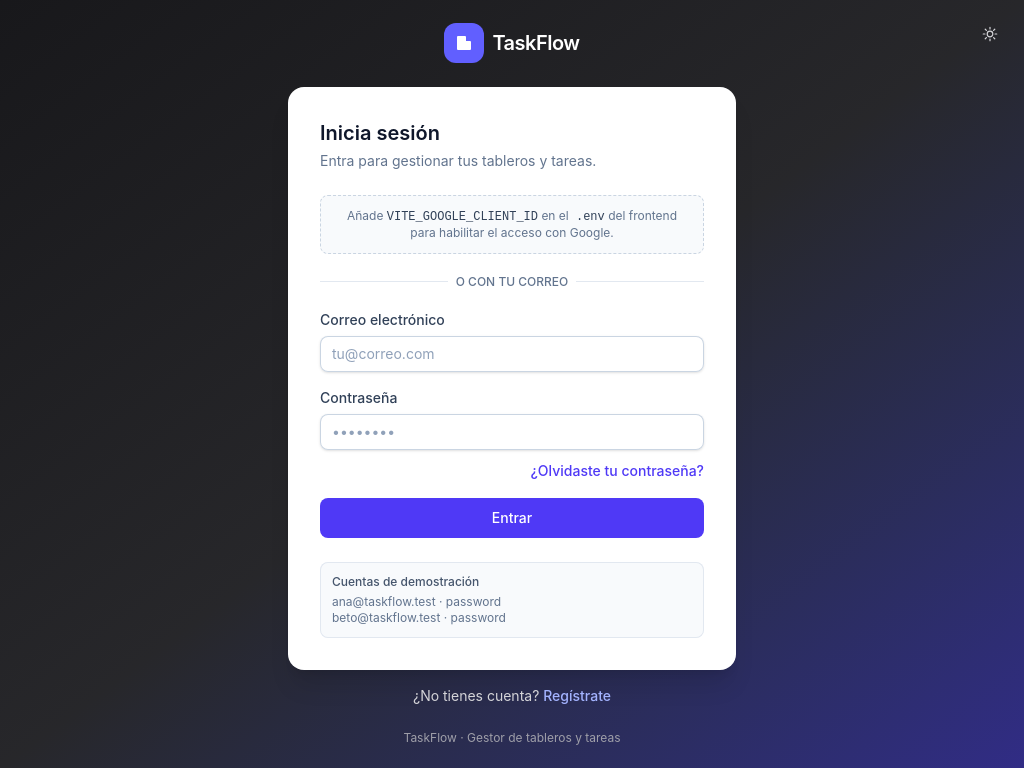
Test: LoginPage › shows the server message on a general error
This screenshot has width=1024, height=768.
Type "ana@taskflow.test" into the field labelled "Correo electrónico". click: (512, 354)
box: x1=320 y1=336 x2=704 y2=372
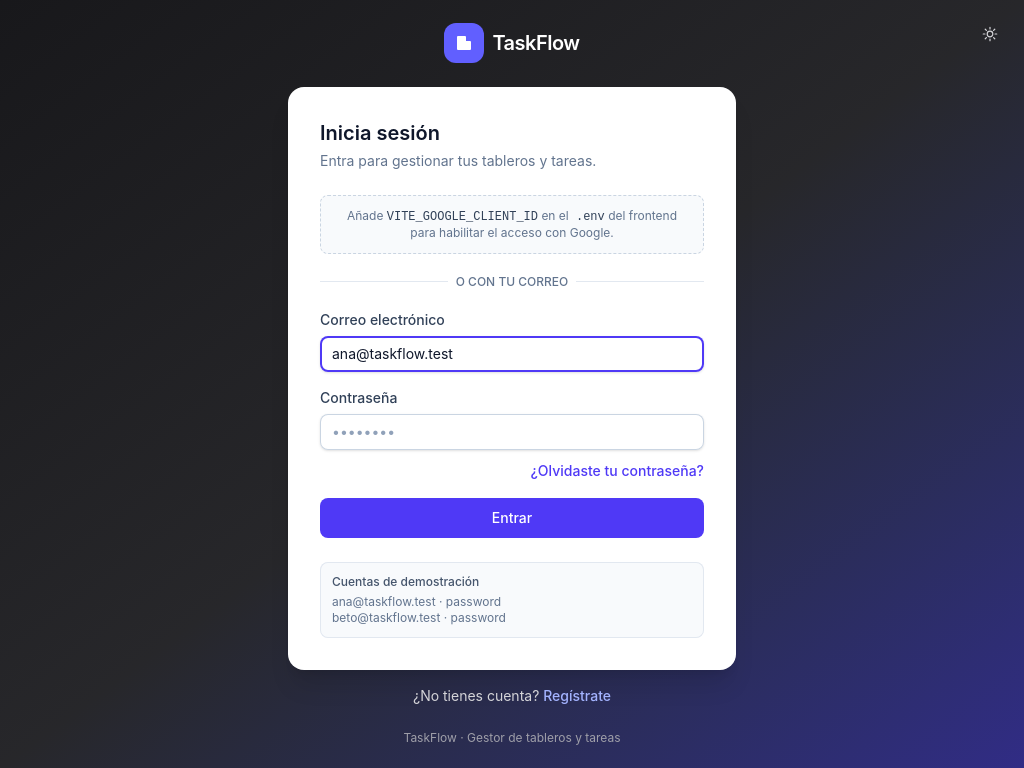
Type "password" into the password field labelled "Contraseña". click: (512, 432)
box: x1=320 y1=414 x2=704 y2=450
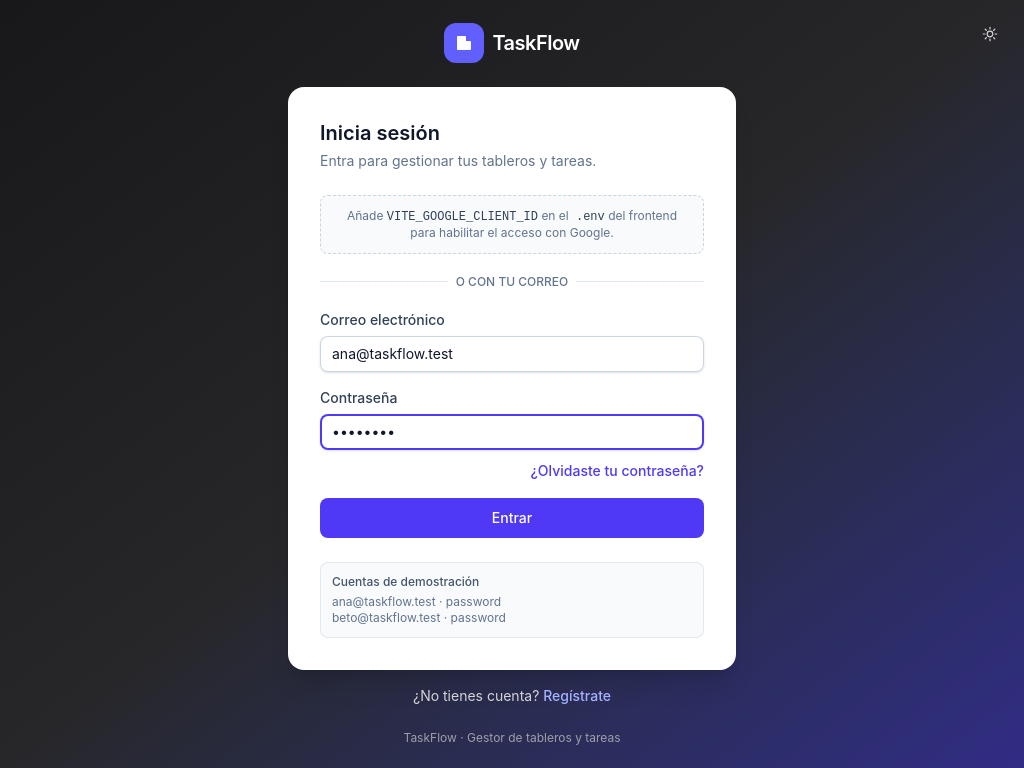
Click the button "Entrar". click: (512, 518)
box: x1=320 y1=498 x2=704 y2=538
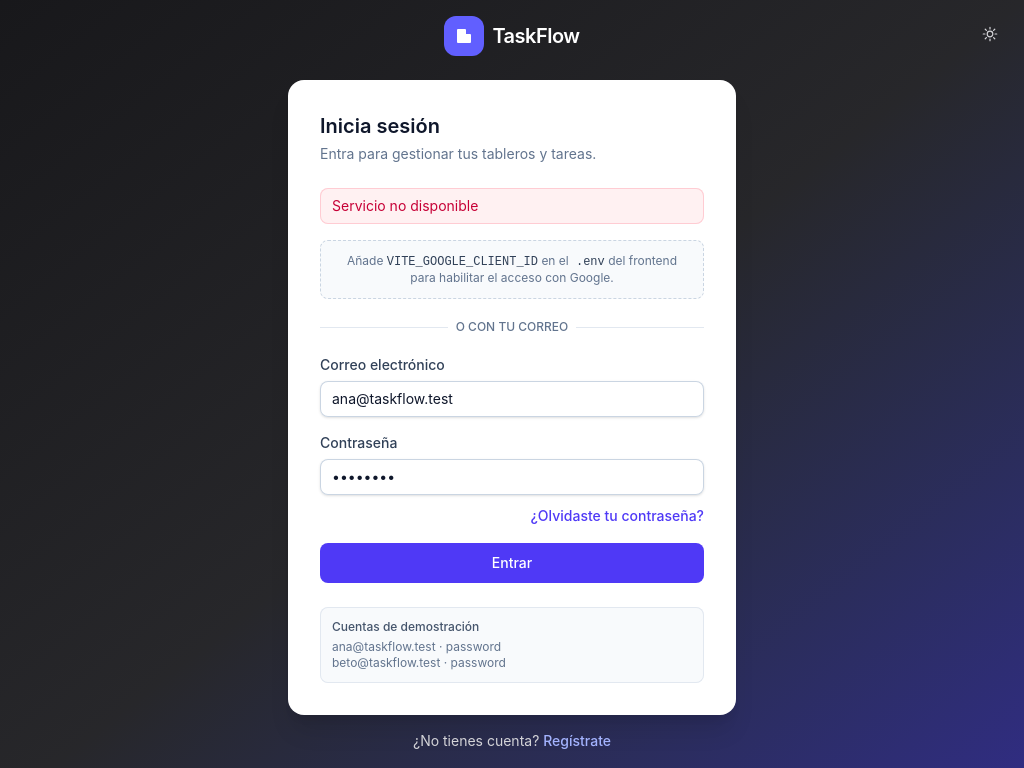
Expected: the message reads "Servicio no disponible", x1=332 y1=197 x2=478 y2=214
